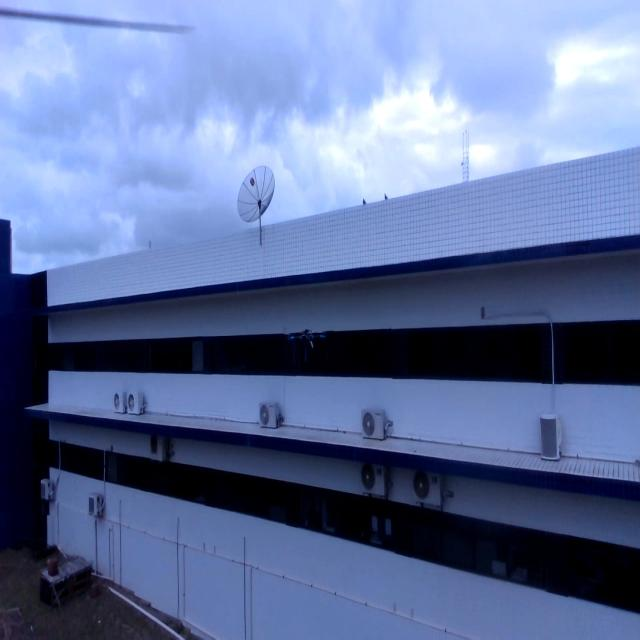-uav-: (269, 308, 337, 384)
